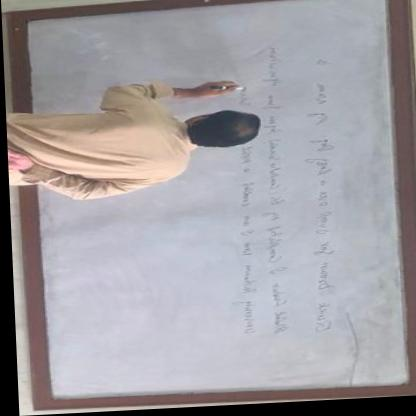Handwritten text: (291, 54, 350, 348), (249, 48, 293, 341), (224, 149, 257, 344)
Lecturer: (10, 71, 271, 206)
